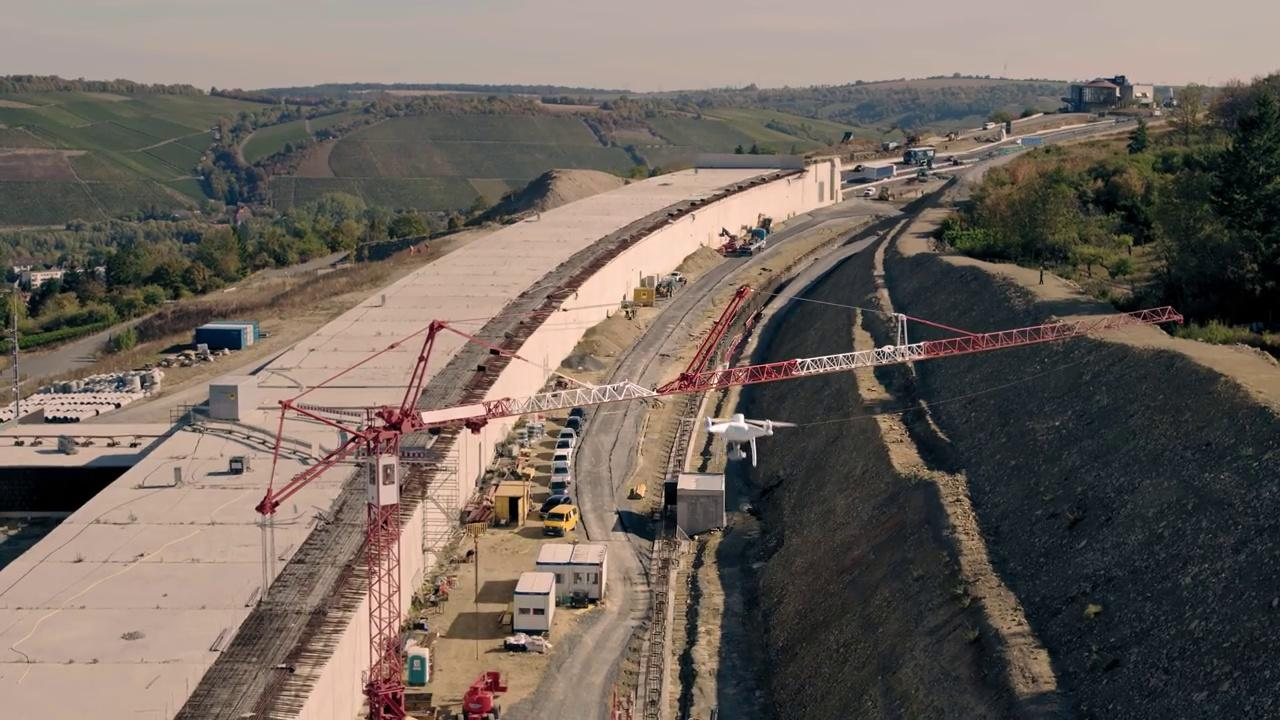drone: (690, 409, 798, 465)
